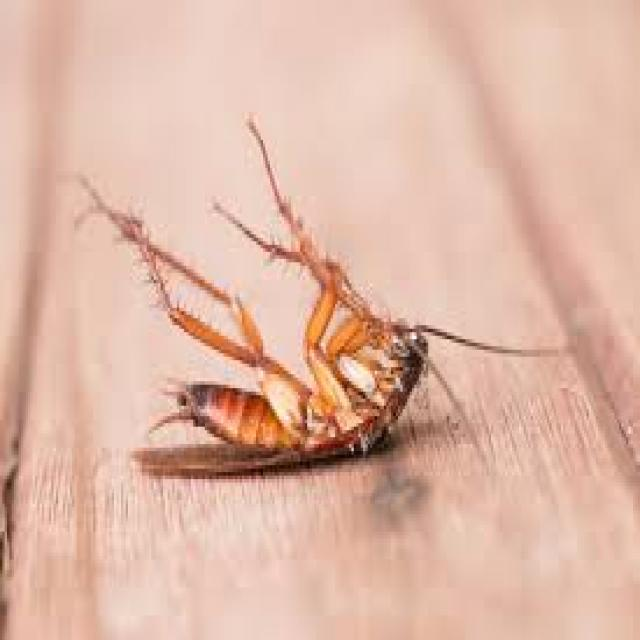Cockroach: (69, 114, 578, 486)
